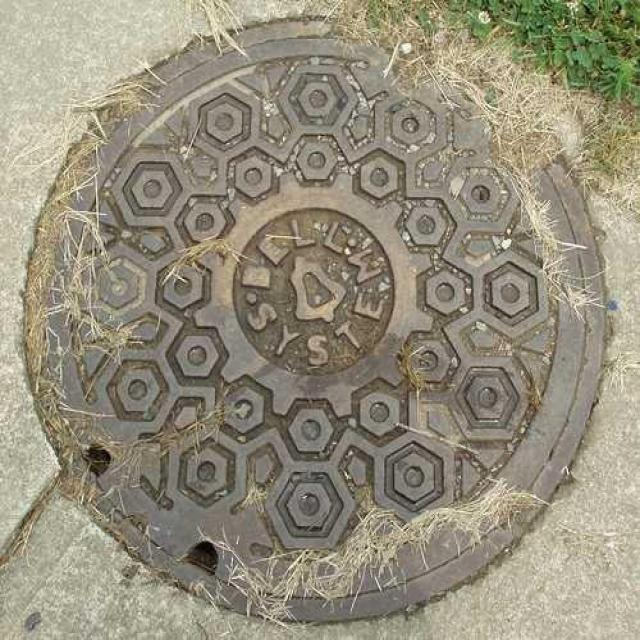manhole: (27, 20, 605, 620)
